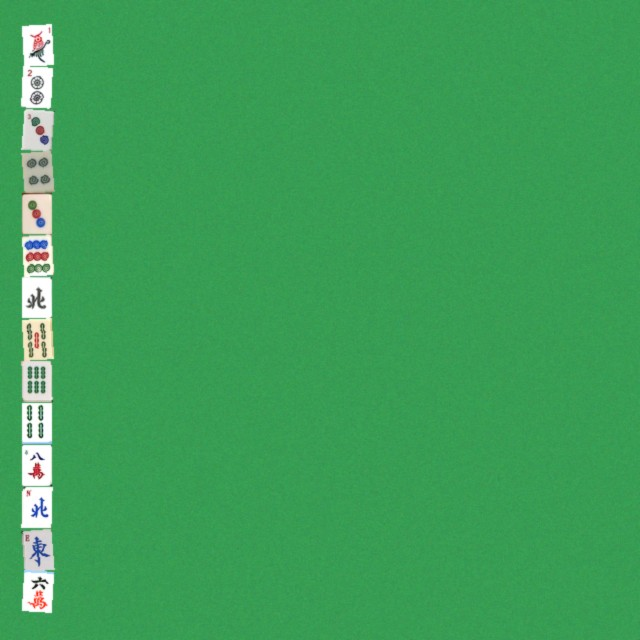tile: (21, 24, 51, 65), (21, 66, 51, 107), (21, 108, 51, 149), (21, 150, 51, 191), (21, 192, 51, 233), (21, 234, 51, 275), (21, 276, 51, 317), (21, 318, 51, 359), (21, 360, 51, 401), (21, 402, 51, 443), (21, 444, 51, 485), (21, 486, 51, 527), (21, 528, 51, 569), (21, 570, 51, 611)
